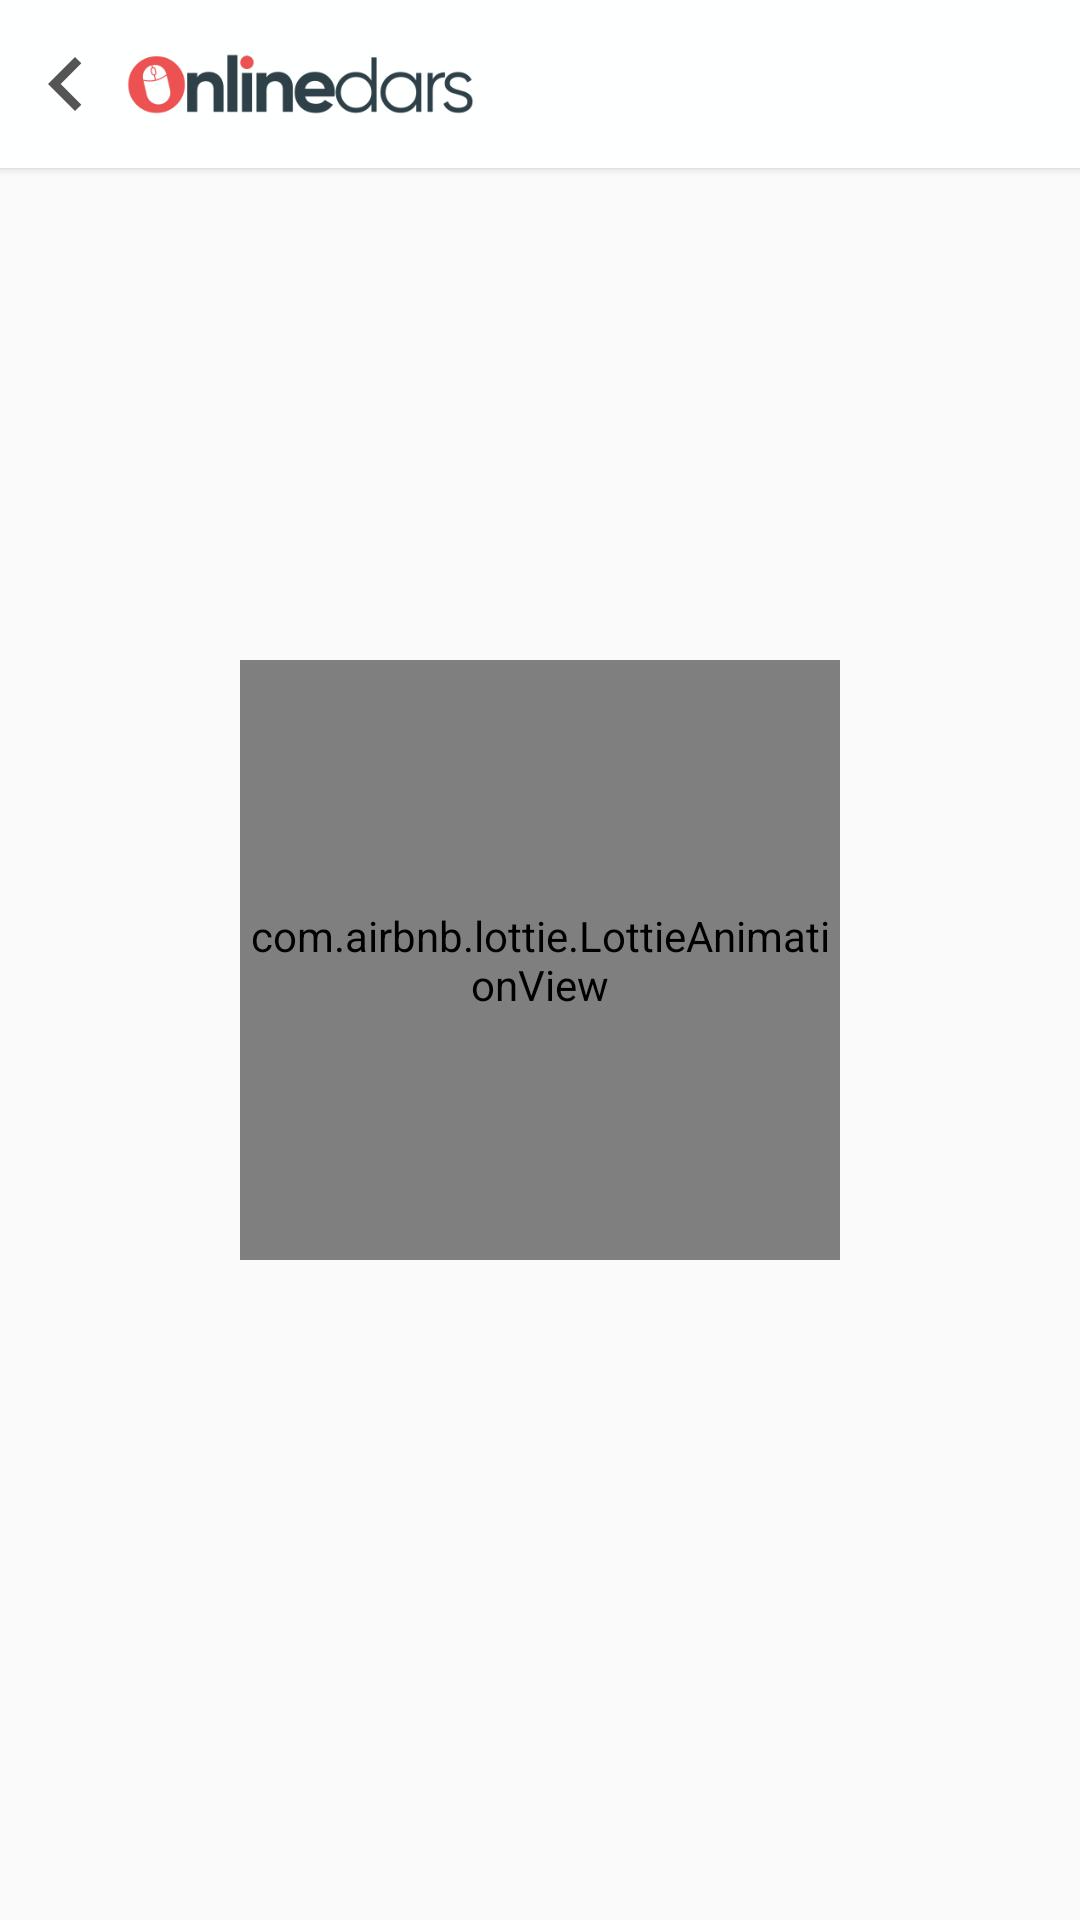

Locate icon controls on the screen. Image size 1080*1920, boxes as {"left": x1, "top": y1, "right": x2, "bottom": y2}.
chevron left toolbar: {"left": 48, "top": 57, "right": 81, "bottom": 111}
